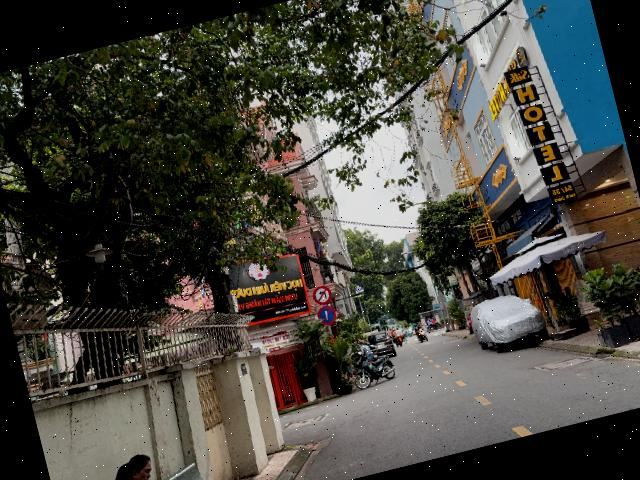cam-do-xe-ngay-le: (315, 304, 338, 328)
cam-re-phai: (311, 283, 334, 306)
